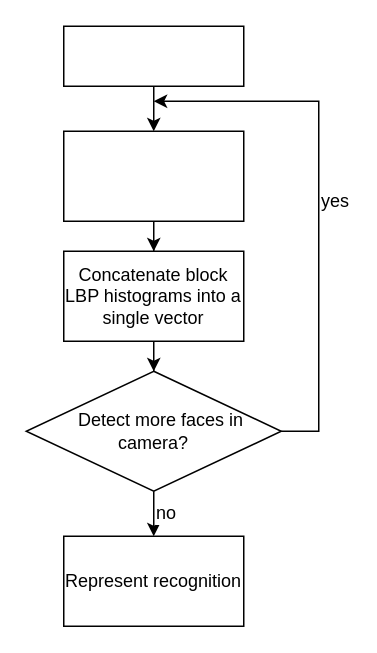
Some shapes in this 377 by 653 pixel diagram are drawn without their labels. Each missing label, with the centre of its shape:
Divide capture into non-overlapped blocks: the point at 153,175
Get an image from camera: the point at 153,55
